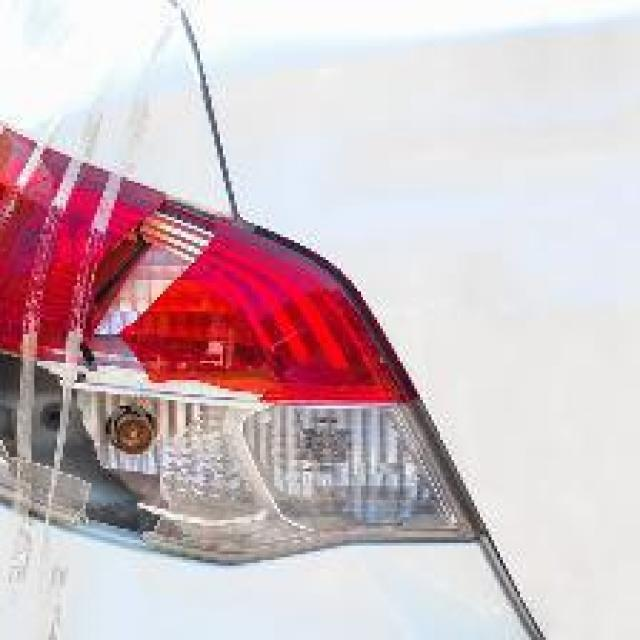damaged: (2, 195, 238, 554)
